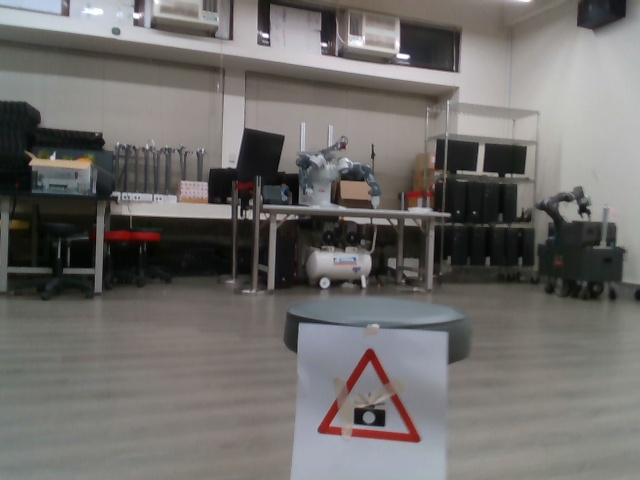camera: (315, 345, 423, 451)
